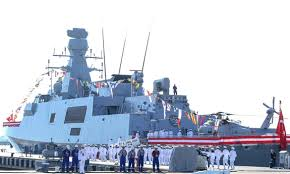tau_muctieu: (12, 35, 283, 165)
